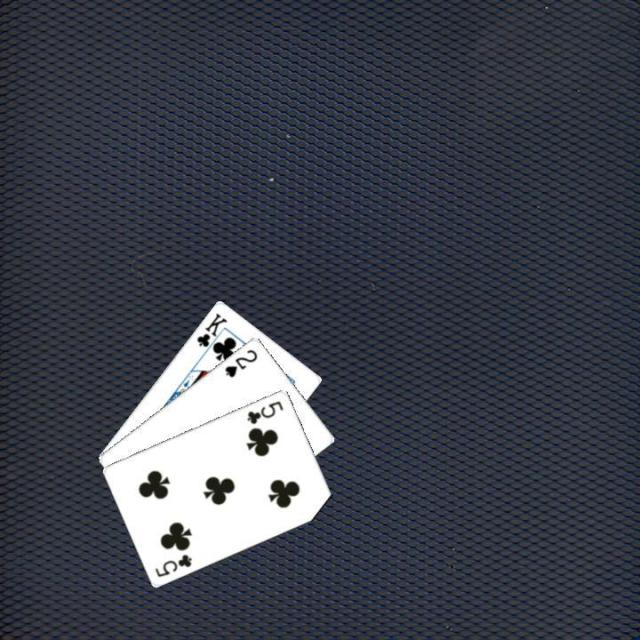2S: (220, 345, 260, 379)
5C: (243, 396, 286, 426), (151, 549, 194, 579)
KC: (193, 309, 229, 356)
